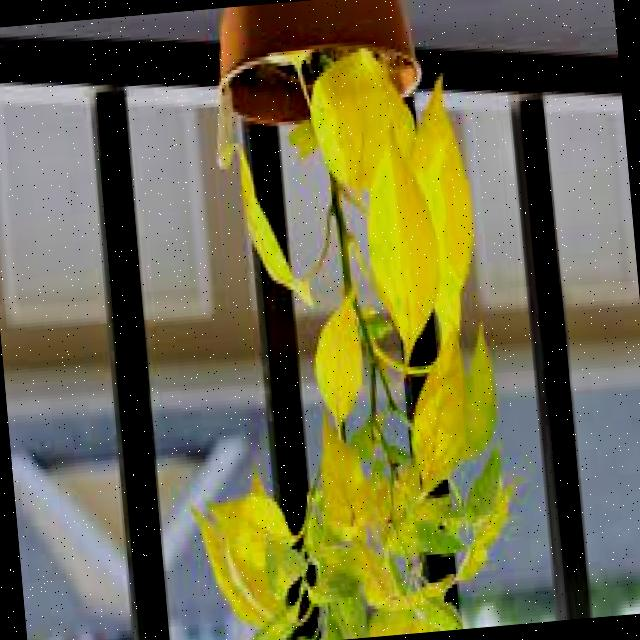yellow: (144, 34, 547, 640)
